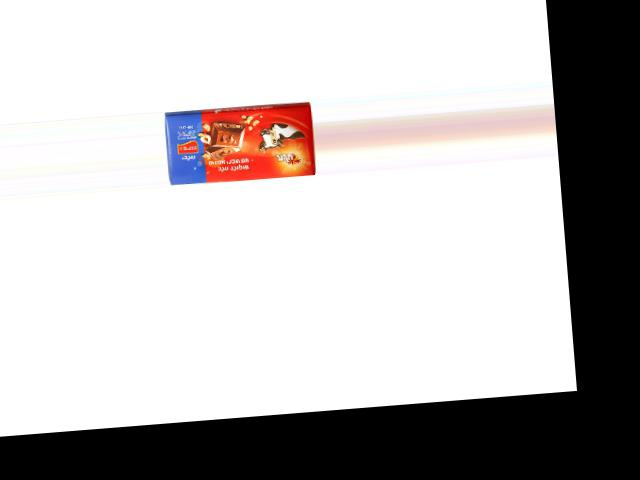chocolate: (164, 101, 317, 185)
